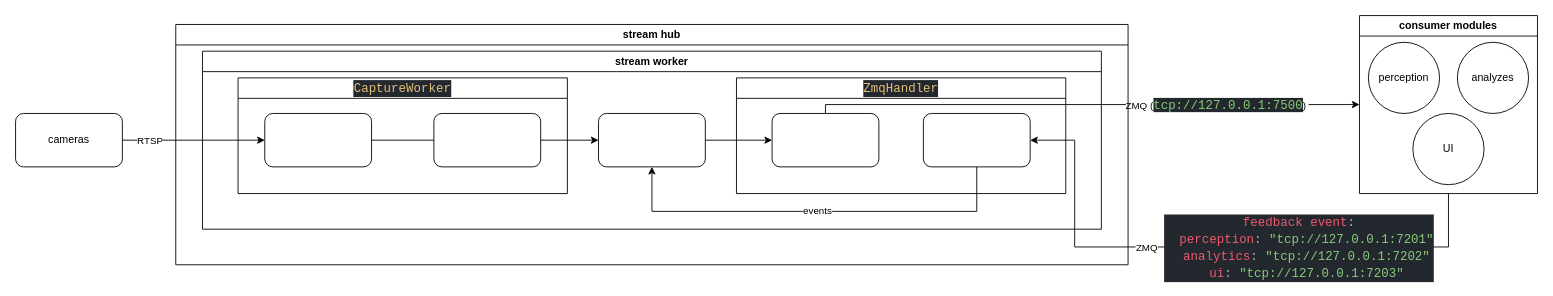
Some shapes in this 1553 by 296 pixel diagram are drawn without their labels. Here are the shapes that lost their labels. From the top down, the centre of each, then its label:
(x=318, y=140): capture
(x=487, y=140): add timestamp to streams
(x=651, y=140): generate metadata
(x=825, y=140): publish
(x=976, y=140): receive thread
